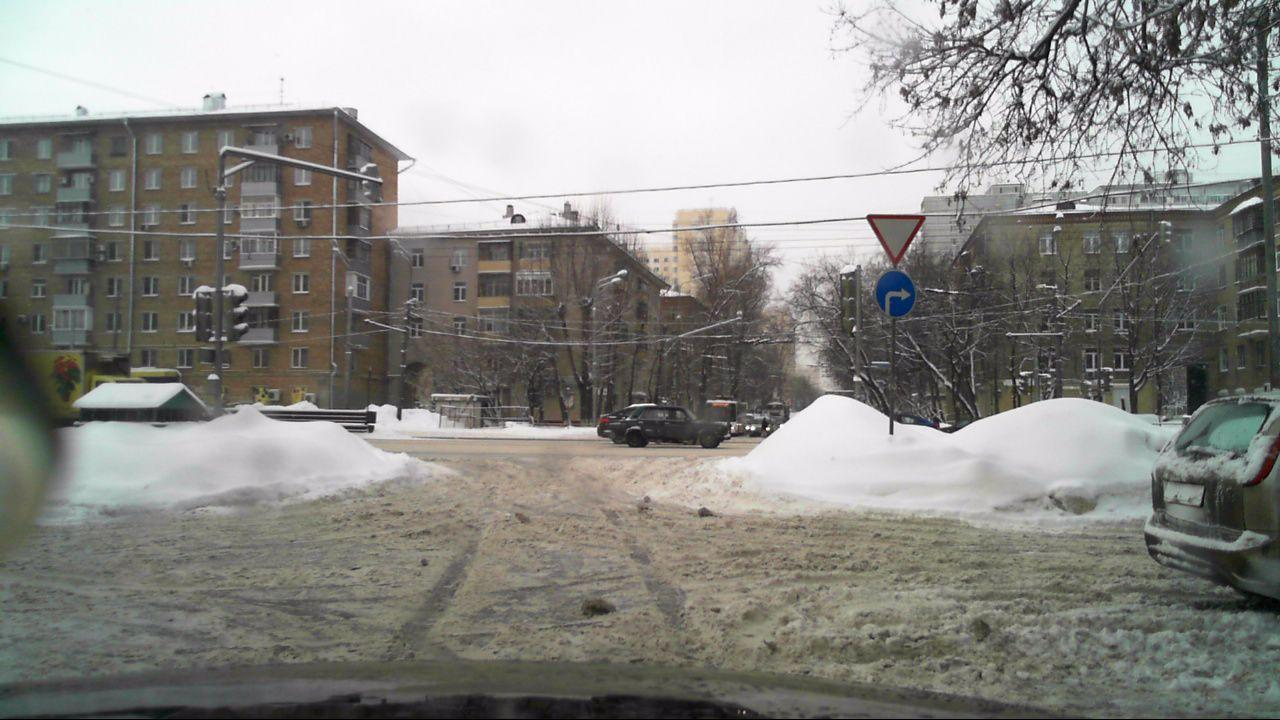off traffic light: (221, 288, 252, 343)
road_sign: (867, 213, 927, 269), (876, 270, 918, 319)
